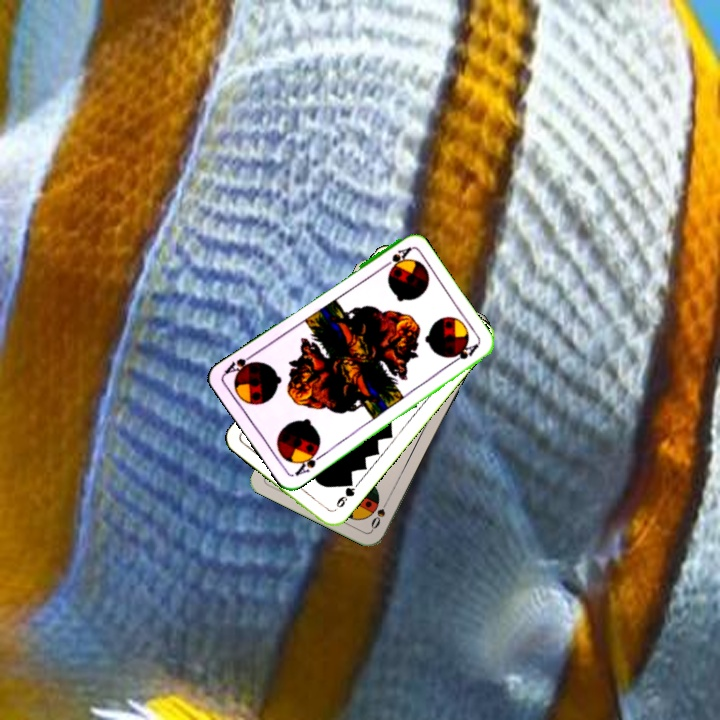G9: (329, 477, 357, 514)
SA: (290, 445, 326, 479), (377, 243, 413, 272)
SO: (367, 495, 391, 533)
